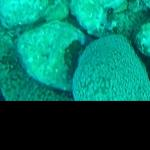alive: (1, 1, 147, 99)
